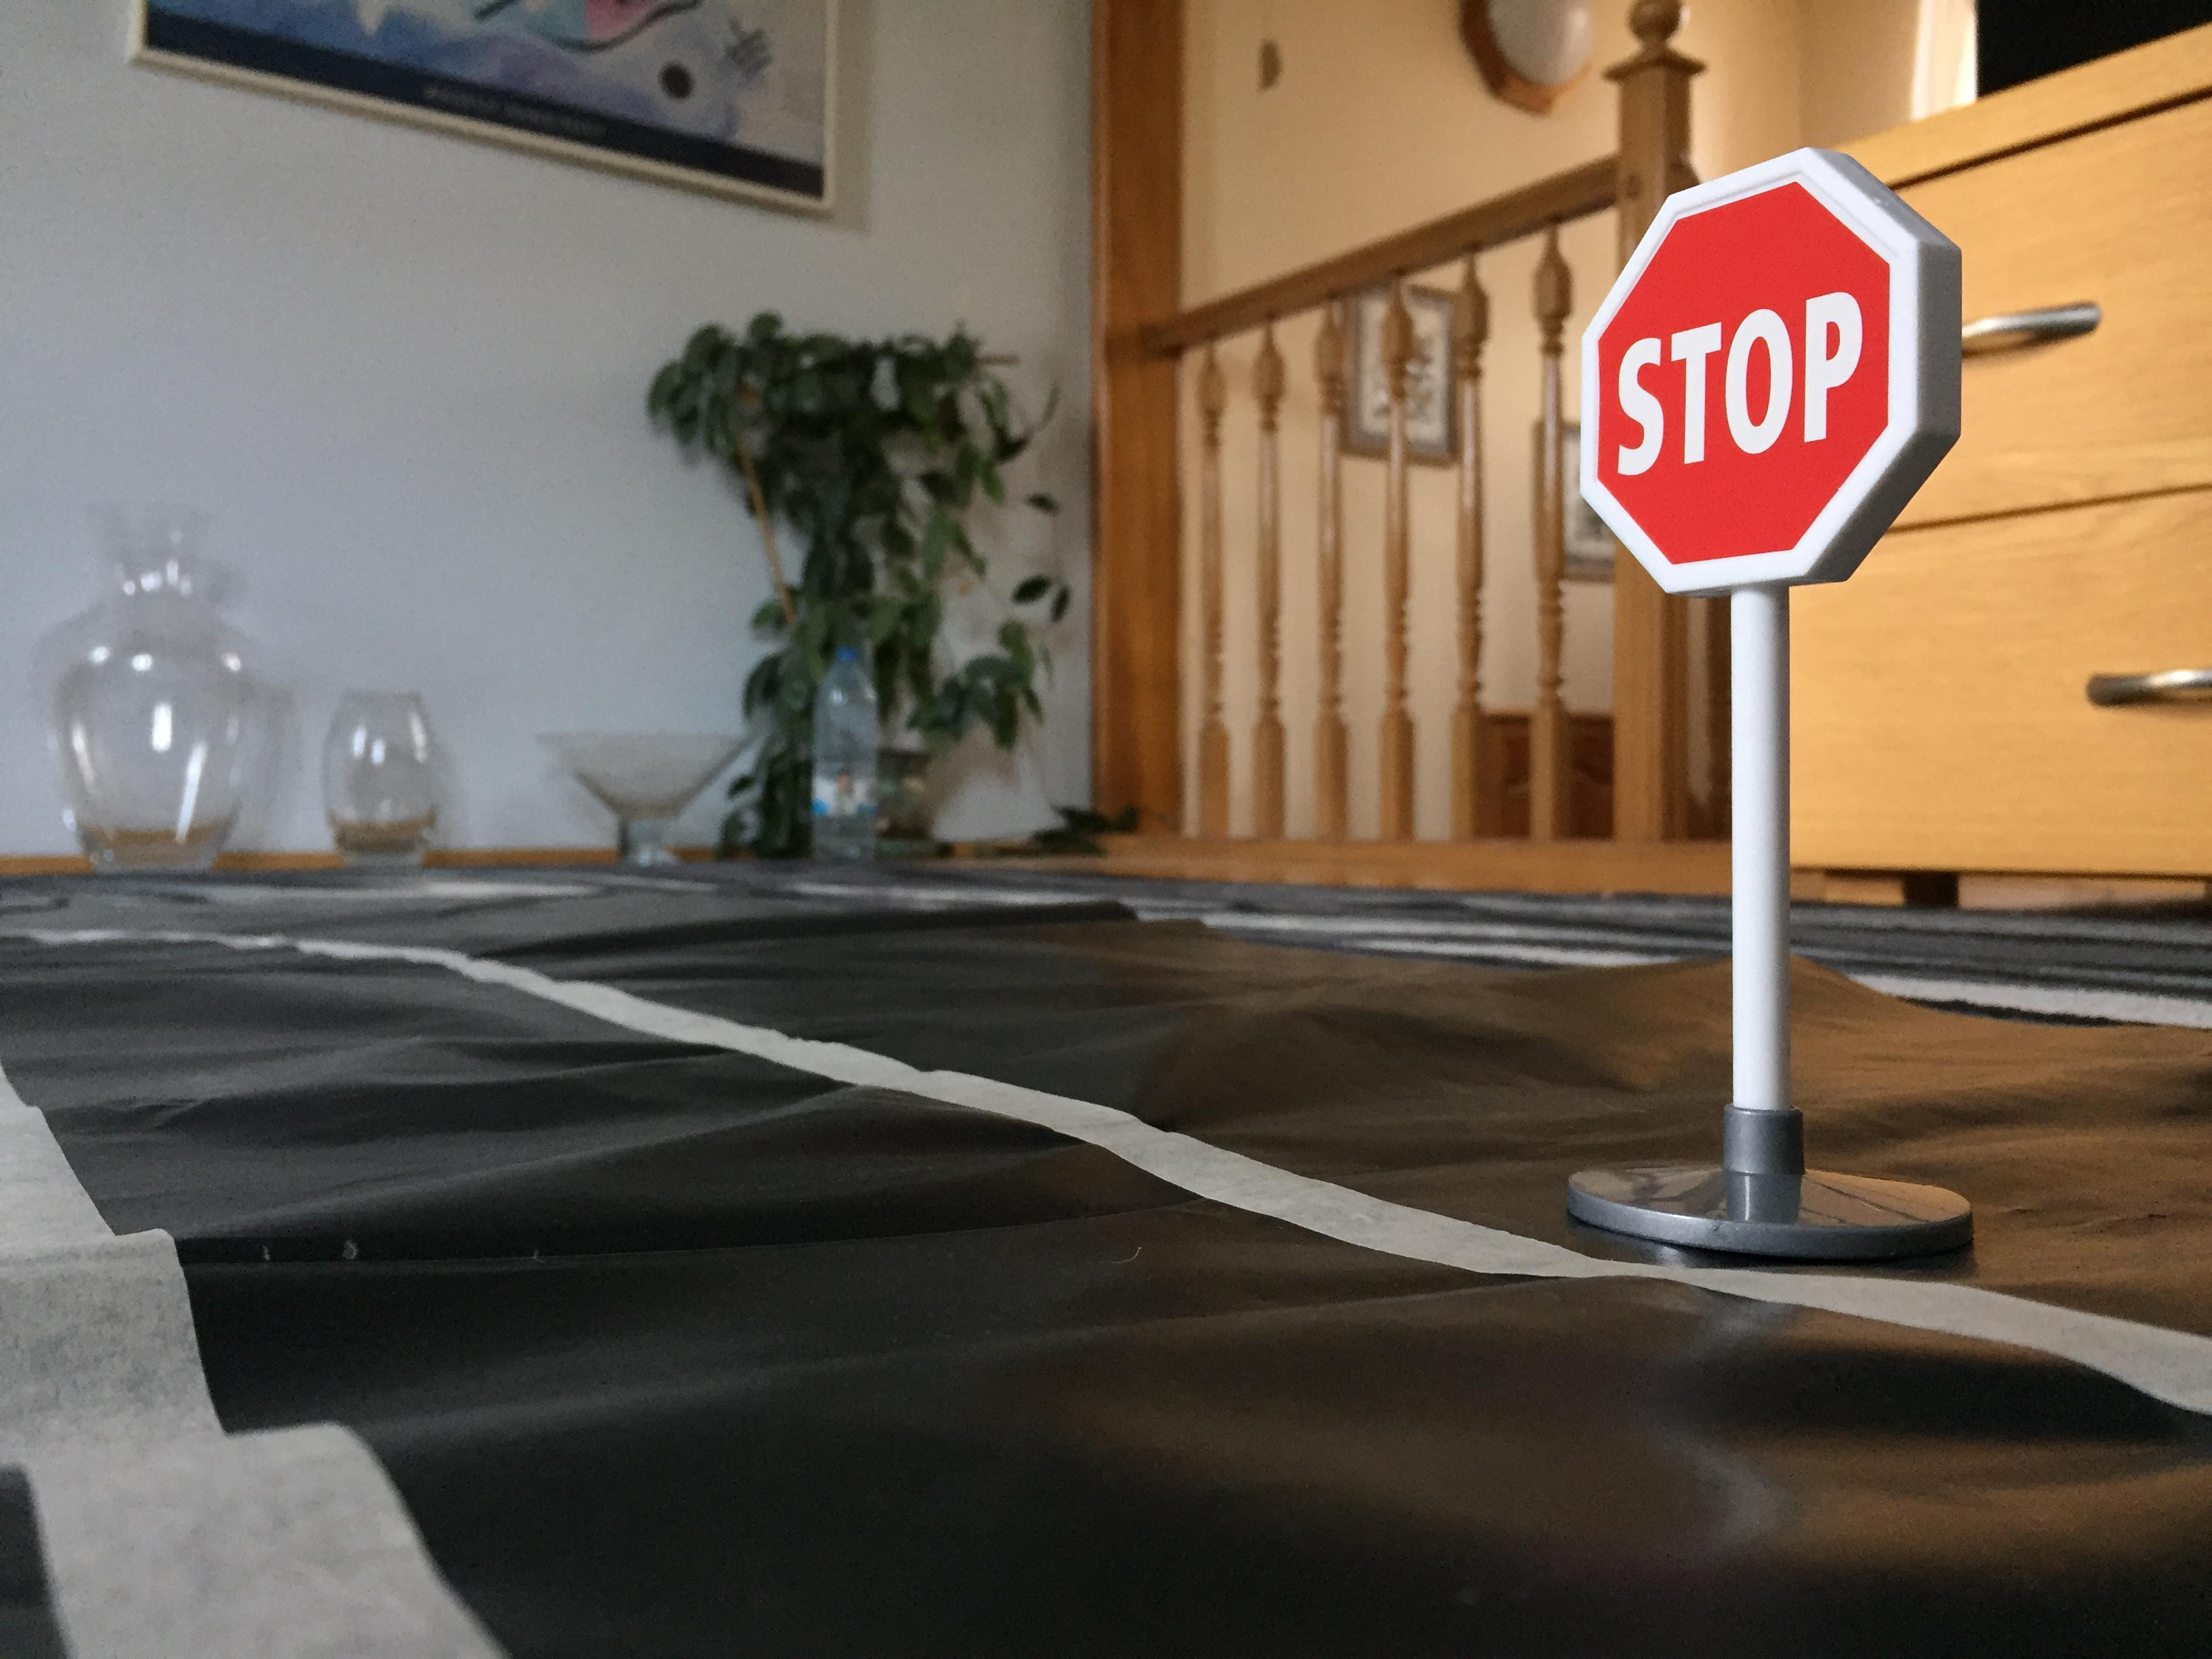stop: (1568, 139, 1977, 619)
